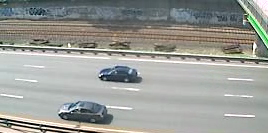car: (56, 99, 108, 124), (97, 64, 142, 85)
